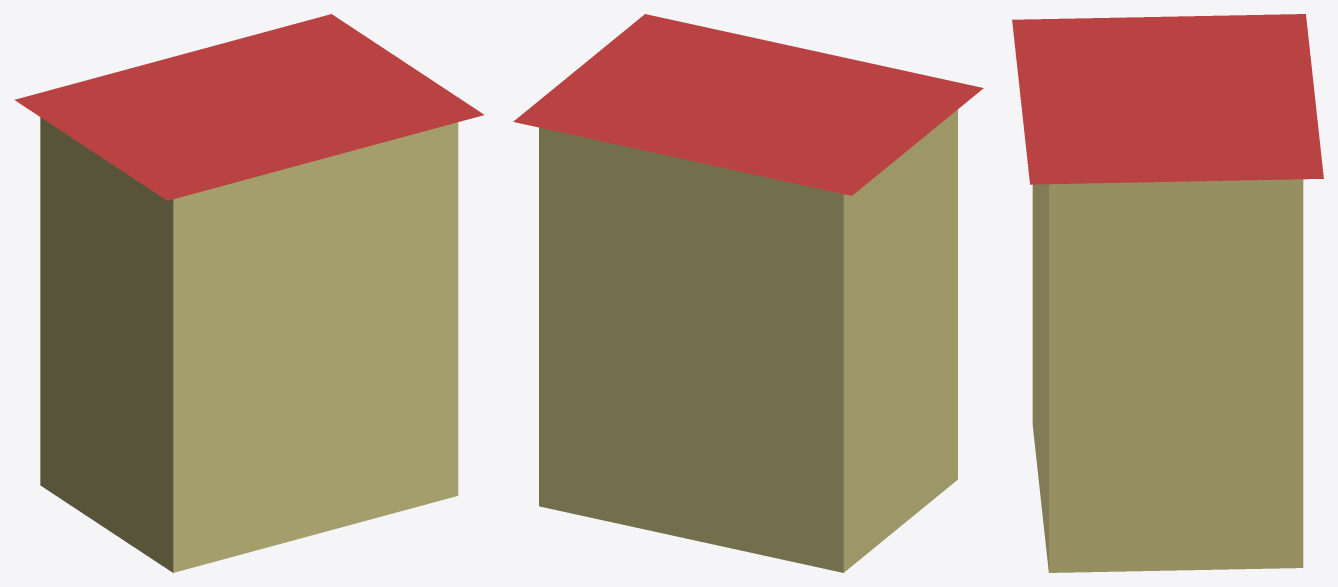
3 views of the same model, side by side, from view 1: azimuth 30°, elevation 25°; view 2: azimuth 150°, elevation 25°; view 3: azimuth 270°, elevation 25° (orthographic). The views are drawn at different scales.
Bounding box in the file's own units: 5.13 × 3.96 × 5.57.
